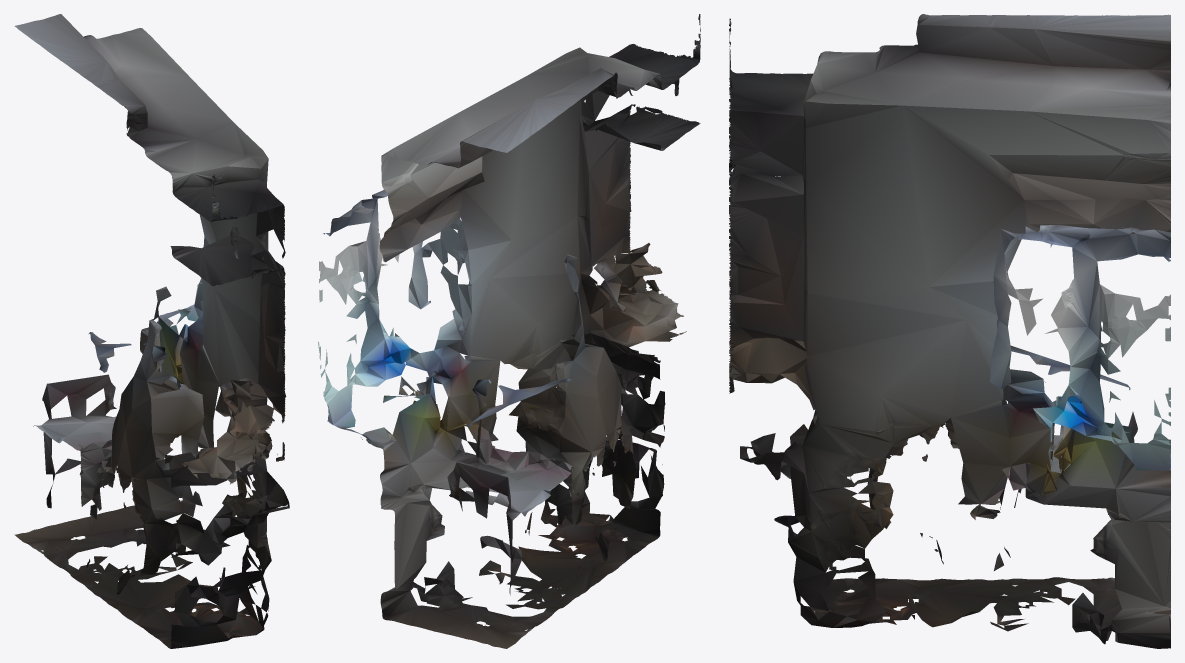
File: coarse.glb
3 views of the same model, side by side, from view 1: azimuth 30°, elevation 25°; view 2: azimuth 150°, elevation 25°; view 3: azimuth 270°, elevation 25° (orthographic). The views are drawn at different scales.
Size of the model in its own units: 1.23 by 3.12 by 2.19.
